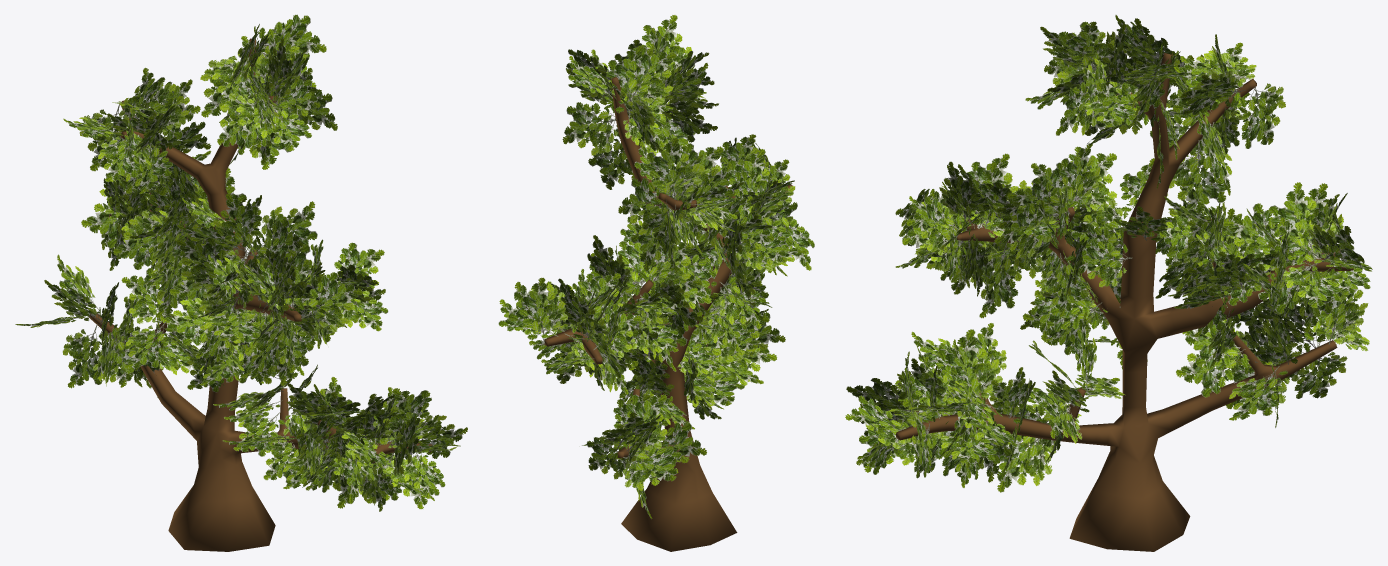
Rendered from OakOld2.fbx.
3 renders of one model, left to right at view 1: azimuth 30°, elevation 25°; view 2: azimuth 150°, elevation 25°; view 3: azimuth 270°, elevation 25°, orthographic. The views are drawn at different scales.
Visible parts, largest first — view 1: Cube, OakBranch.223, OakBranch.065, OakBranch.074, OakBranch.231, OakBranch.181, OakBranch.009, OakBranch.037, OakBranch.268, OakBranch.128, OakBranch.194, OakBranch.222 (+60 smaller); view 2: Cube, OakBranch.239, OakBranch.246, OakBranch.066, OakBranch.031, OakBranch.075, OakBranch.069, OakBranch.200, OakBranch.072, OakBranch.036, OakBranch.259, OakBranch.179 (+63 smaller); view 3: Cube, OakBranch.129, OakBranch.086, OakBranch.109, OakBranch.024, OakBranch.059, OakBranch.212, OakBranch.006, OakBranch.142, OakBranch.294, OakBranch.289, OakBranch.231 (+64 smaller).
Part boxes in pixels (x1,y1,x2,y2): Cube: (88,38,432,551); OakBranch.223: (297,272,362,331); OakBranch.065: (176,237,231,289); OakBranch.074: (62,324,105,388); OakBranch.231: (213,193,262,257); OakBranch.181: (113,210,175,269); OakBranch.009: (124,322,172,368); OakBranch.037: (121,268,170,323); OakBranch.268: (254,101,311,150); OakBranch.128: (383,388,431,438); OakBranch.194: (160,297,209,345); OakBranch.222: (242,321,290,378); Cube: (544,76,792,551); OakBranch.239: (562,102,618,155); OakBranch.246: (620,46,676,105); OakBranch.066: (646,138,702,209); OakBranch.031: (516,277,568,344); OakBranch.075: (622,447,681,490); OakBranch.069: (618,178,673,237); OakBranch.200: (719,276,765,328); OakBranch.072: (621,394,667,456); OakBranch.036: (588,130,635,189); OakBranch.259: (661,96,717,142); OakBranch.179: (639,242,693,288); Cube: (896,53,1353,551); OakBranch.129: (1169,140,1227,212); OakBranch.086: (997,434,1052,492); OakBranch.109: (936,329,1002,402); OakBranch.024: (1240,83,1285,148); OakBranch.059: (1223,203,1282,271); OakBranch.212: (975,243,1018,318); OakBranch.006: (1229,366,1287,420); OakBranch.142: (1268,182,1335,259); OakBranch.294: (1073,239,1132,287); OakBranch.289: (906,196,961,255); OakBranch.231: (1059,143,1100,208).
Size of the model in its own units: 551 by 331 by 610.
Materials: 2 (1 with a texture image).
